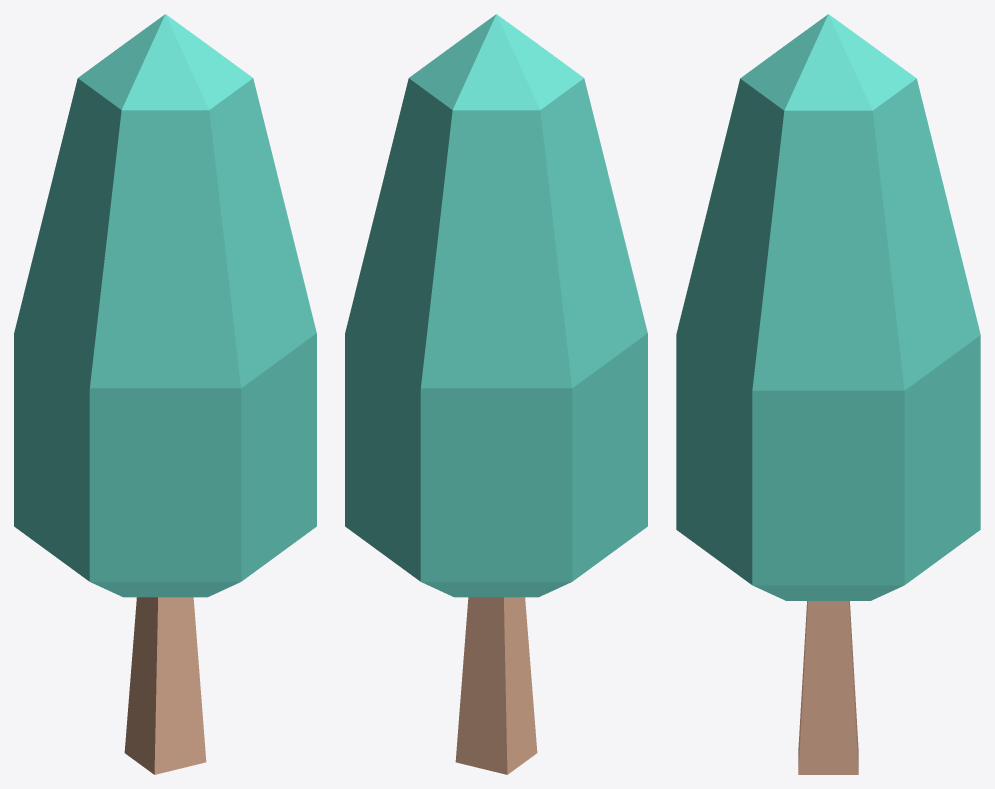
Rendered from tree-small.glb.
The picture shows the model from 3 angles, left to right: view 1: azimuth 30°, elevation 25°; view 2: azimuth 150°, elevation 25°; view 3: azimuth 270°, elevation 25°; orthographic projection.
Parts seen in each view (by area): view 1: tree_small; view 2: tree_small; view 3: tree_small.
Part boxes in pixels (left/top/right/bottom): tree_small: left=14, top=14, right=316, bottom=774; tree_small: left=345, top=14, right=647, bottom=774; tree_small: left=676, top=14, right=980, bottom=774.
Bounding box in the file's own units: 0.3546 × 1.11 × 0.4095.
